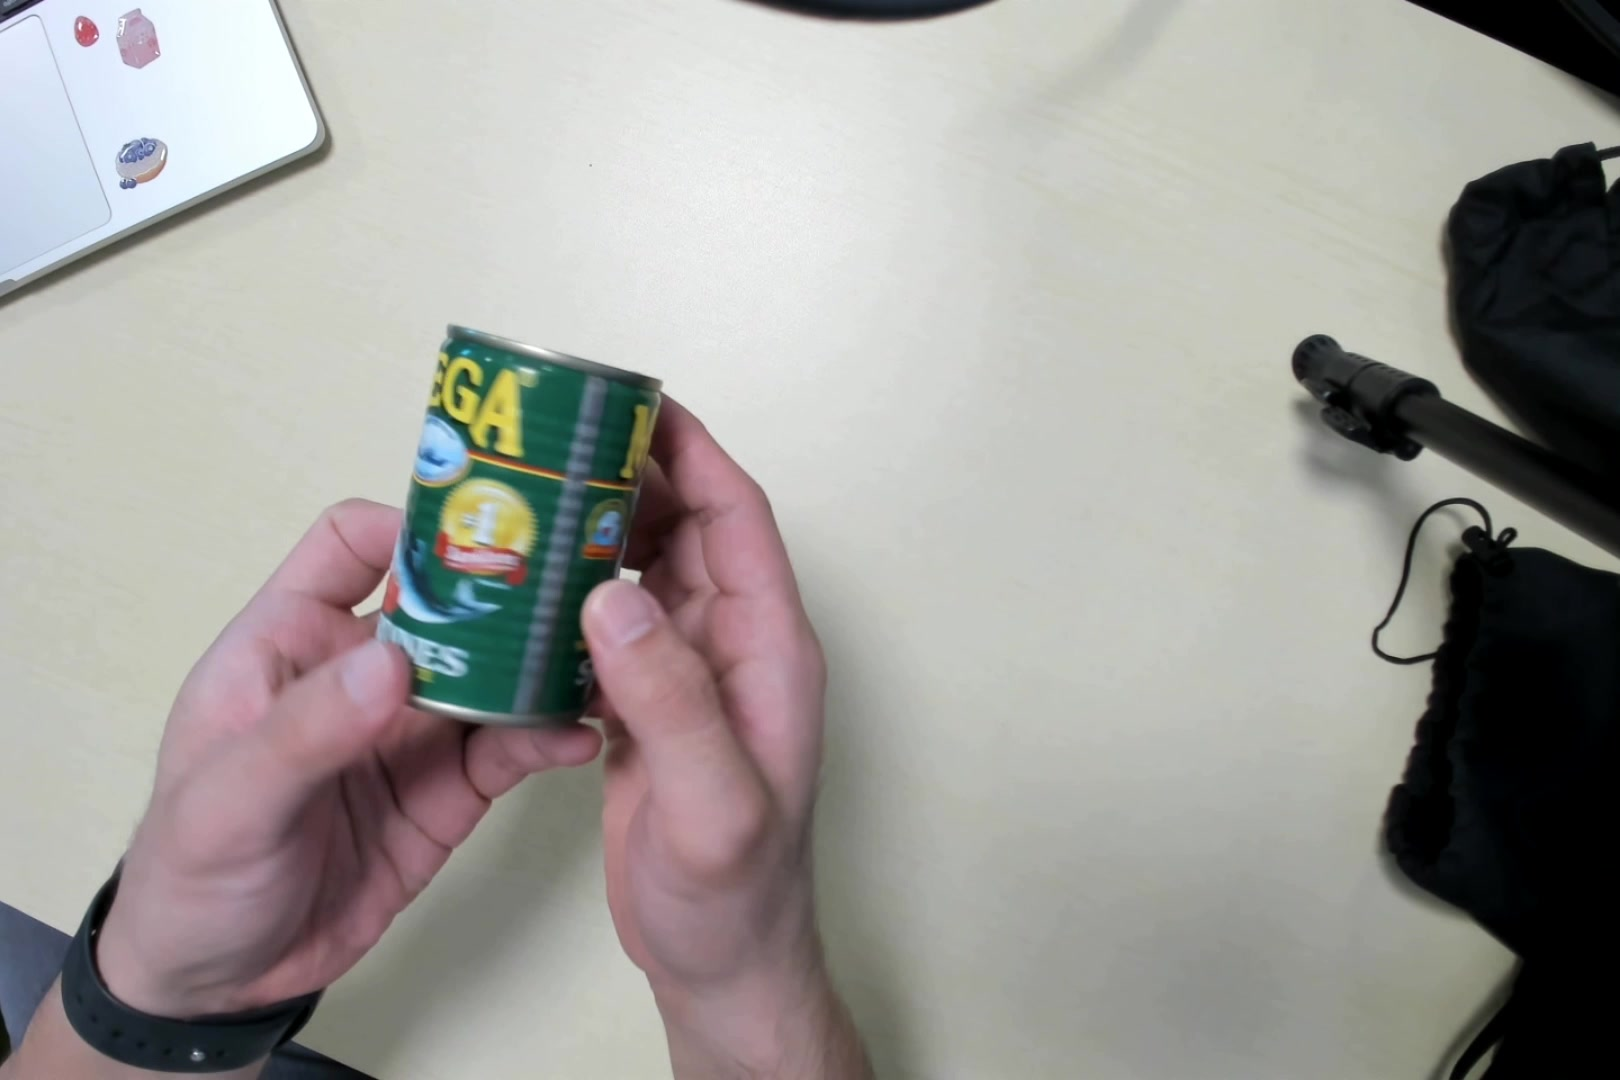CannedSardingMackerel_100-199g_NonHalal_NonHealthy: (366, 319, 661, 735)
